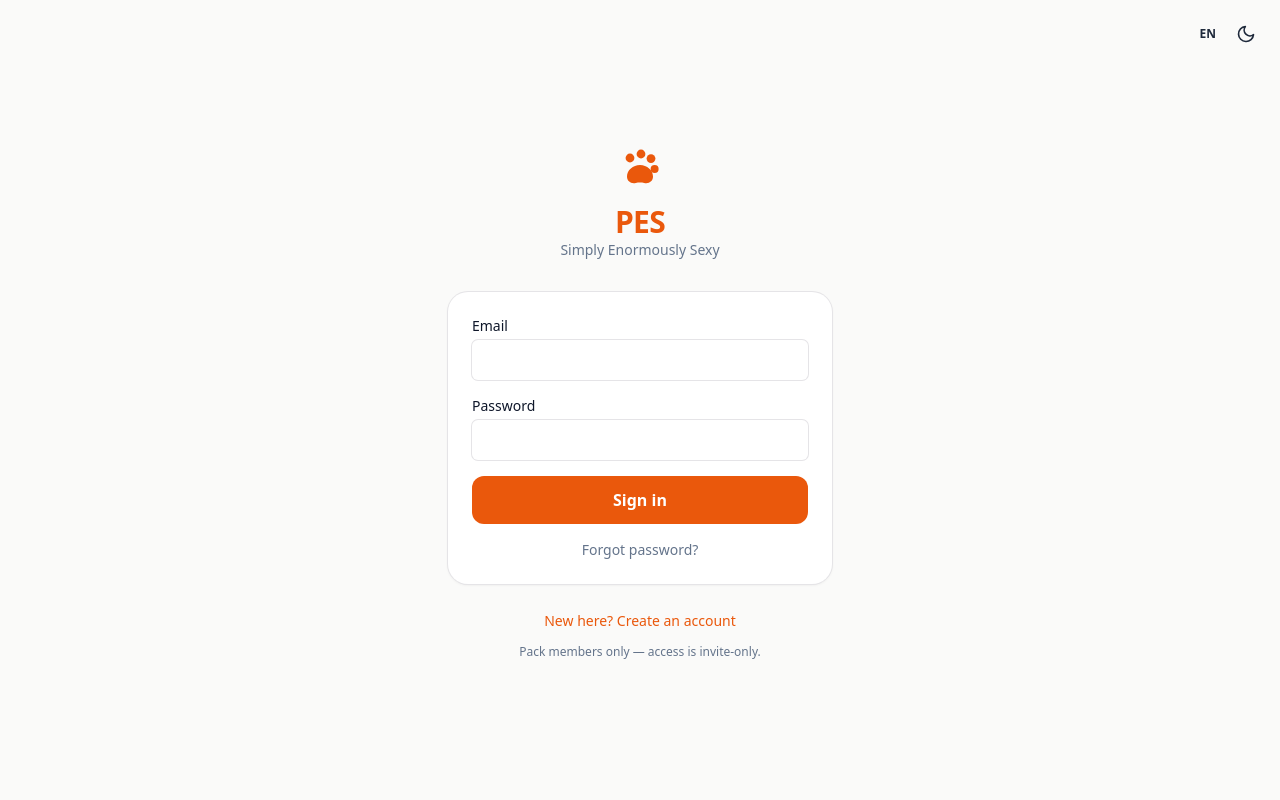
Test: login → app navigation › signs in and lands on the dashboard, then navigates to the leaderboard
The width and height of the screenshot is (1280, 800).
Type "bara@pes.dev" into the field labelled "Email".
click(640, 360); type("bara@pes.dev")  # box [472, 340, 808, 380]
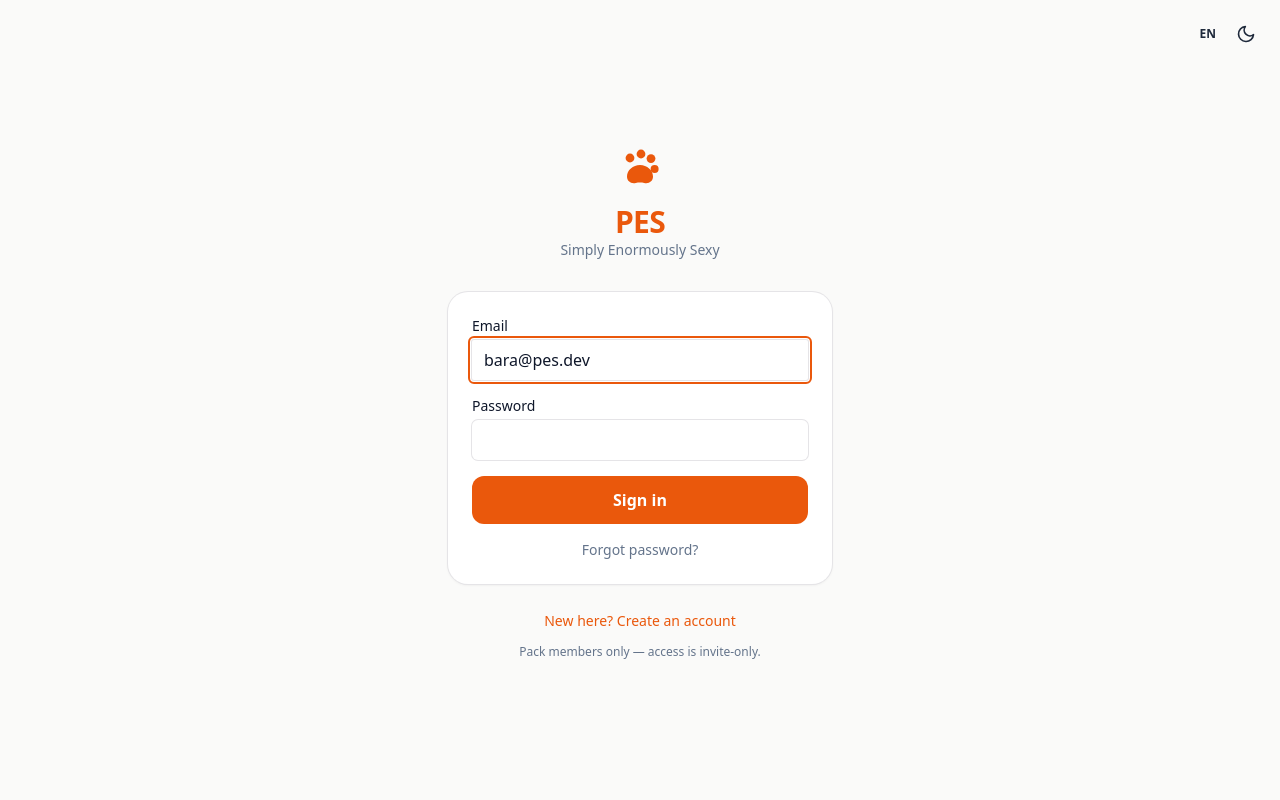
Type "secret" into the password field labelled "Password".
click(640, 440); type("secret")  # box [472, 420, 808, 460]
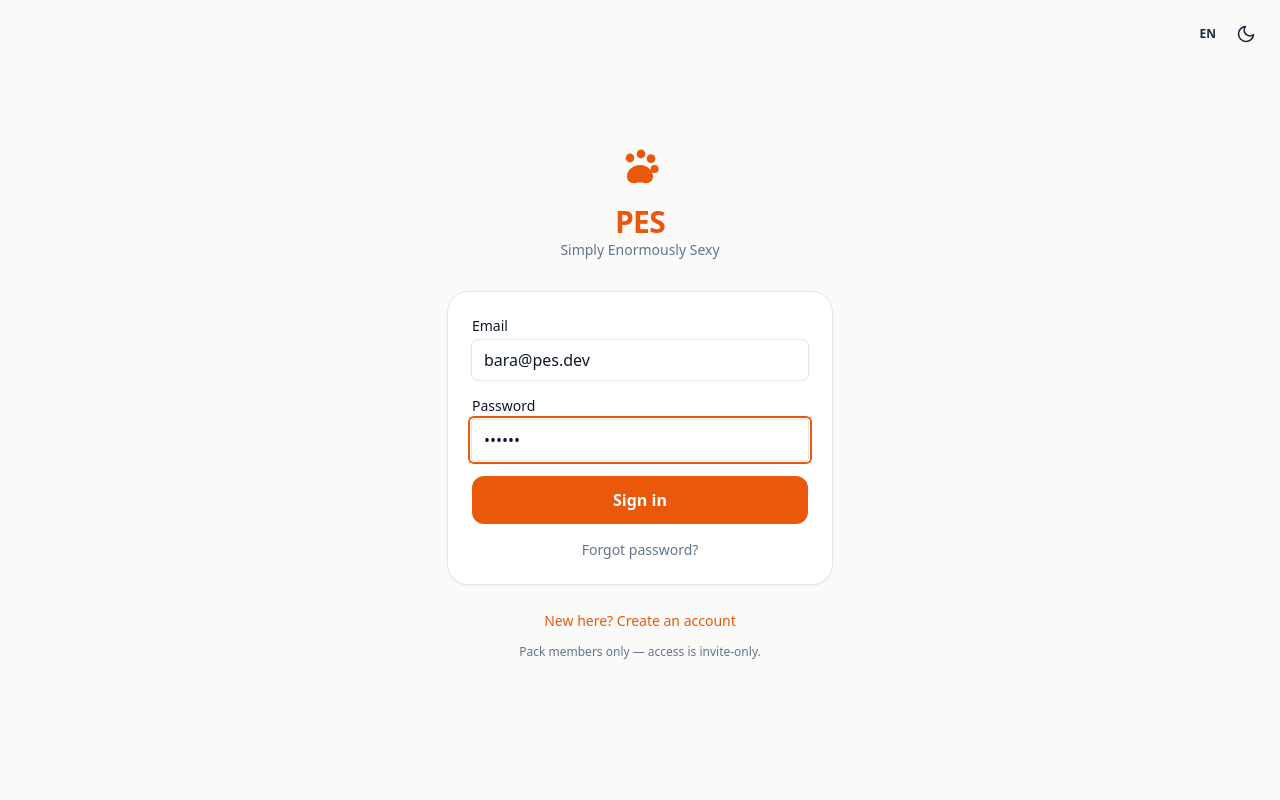
Click the button "Sign in".
click(640, 500)  # box [472, 476, 808, 524]
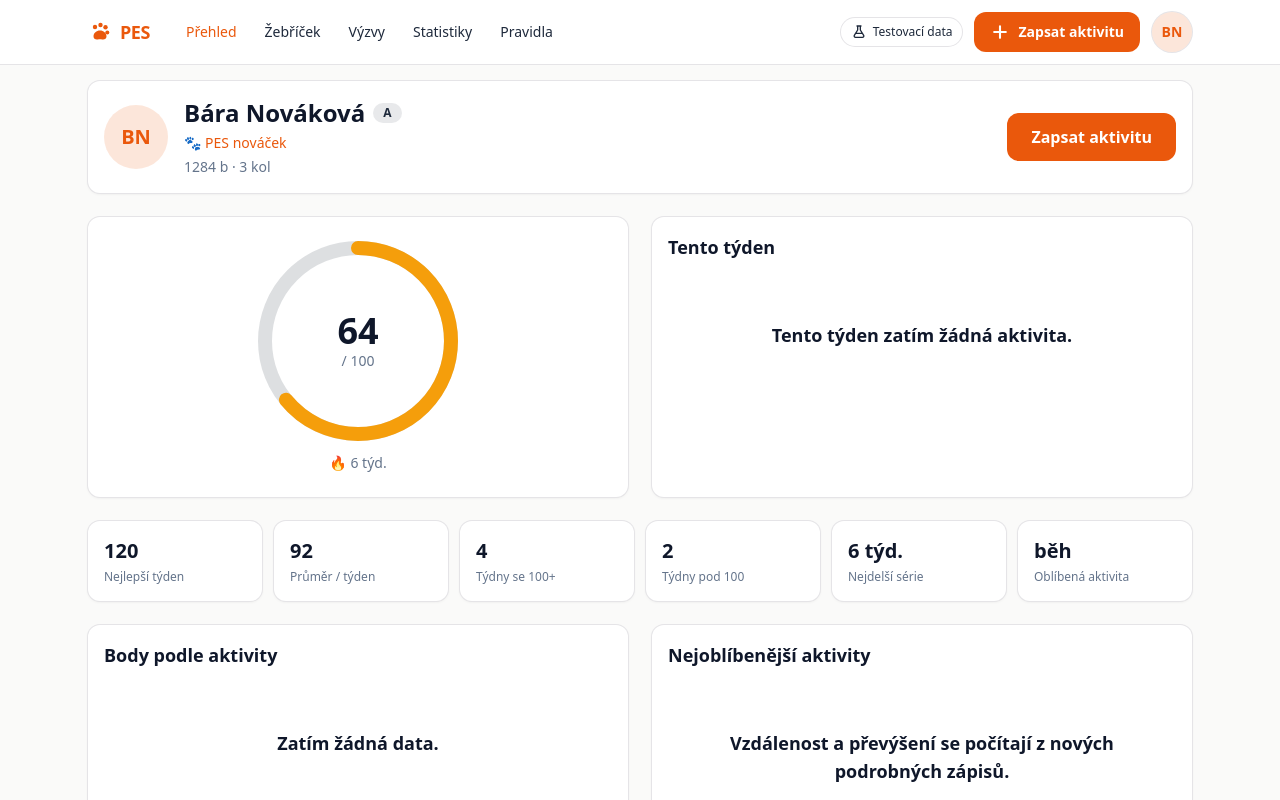
Note: Navigate to the leaderboard (TopBar + BottomTabBar both render the link).
Click the link "Žebříček".
click(293, 32)  # box [265, 22, 321, 41]
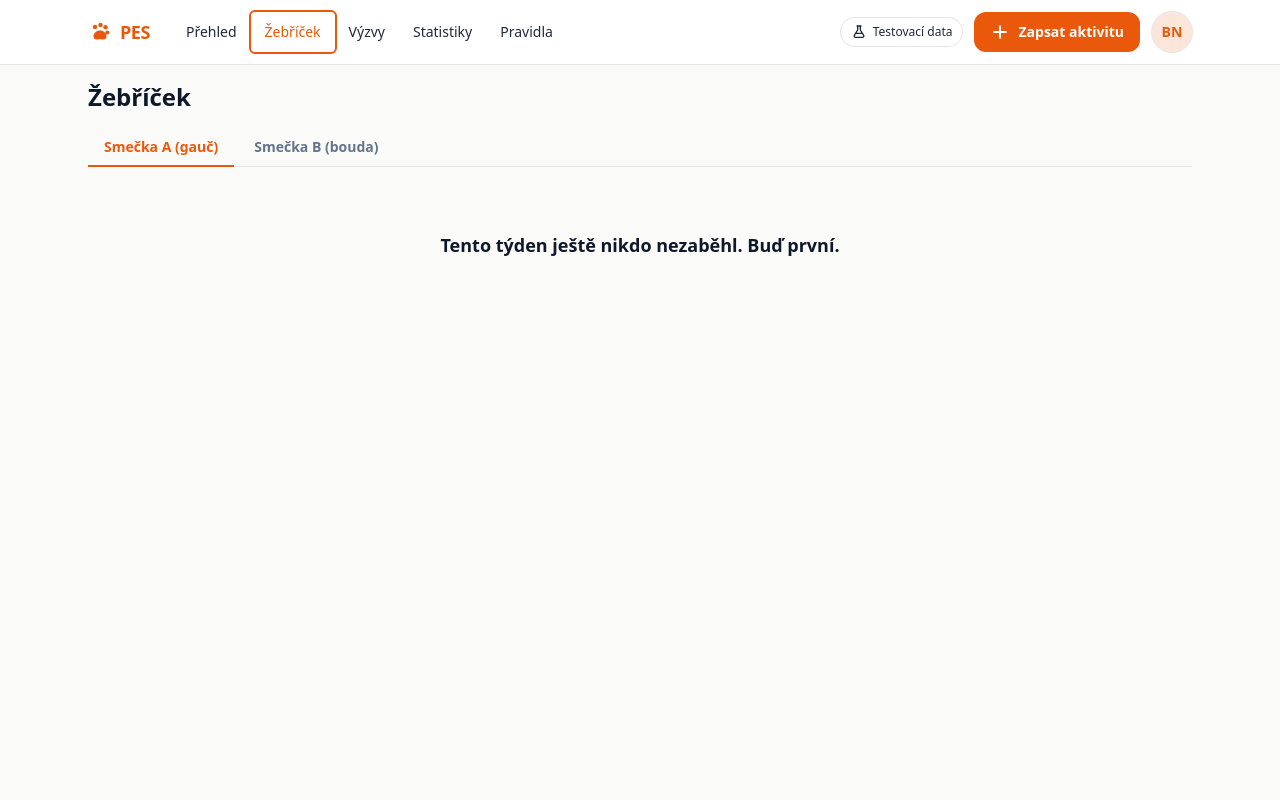
Expected: the heading "Žebříček" is shown, [88, 80, 191, 113]
